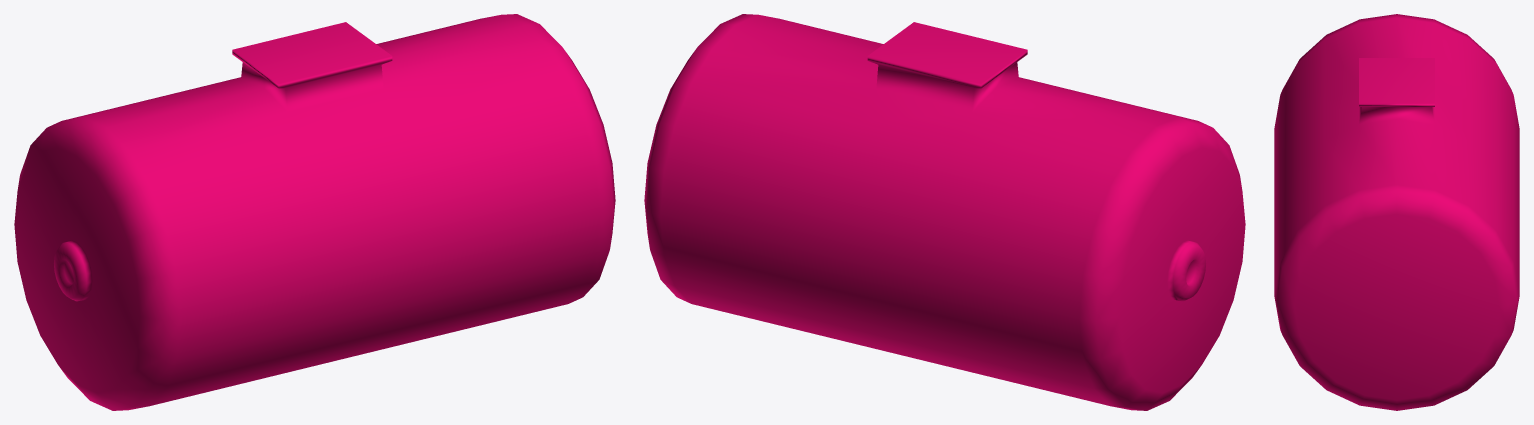
Rendered from Factory_Tank_04_Lod0.fbx.
The picture shows the model from 3 angles, left to right: view 1: azimuth 30°, elevation 25°; view 2: azimuth 150°, elevation 25°; view 3: azimuth 270°, elevation 25°; orthographic projection. The views are drawn at different scales.
Visible parts, largest first — view 1: Factory_Tank_04_Lod0; view 2: Factory_Tank_04_Lod0; view 3: Factory_Tank_04_Lod0.
Part boxes in pixels (box(x1,y1,x2,y2)): Factory_Tank_04_Lod0: box(14, 14, 615, 410); Factory_Tank_04_Lod0: box(644, 14, 1245, 410); Factory_Tank_04_Lod0: box(1274, 14, 1519, 410).
Size of the model in its own units: 327 by 191 by 175.
